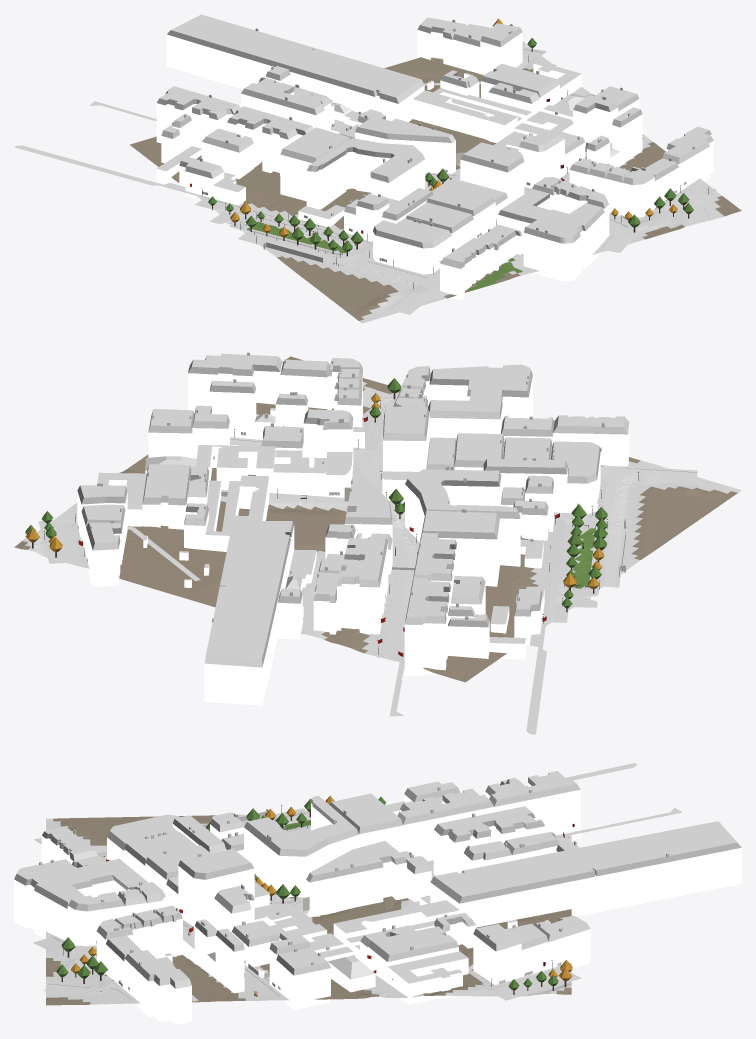
File: zone_H1.glb
3 renders of one model, top to bottom at view 1: azimuth 30°, elevation 25°; view 2: azimuth 150°, elevation 25°; view 3: azimuth 270°, elevation 25°, orthographic. The views are drawn at different scales.
Parts seen in each view (by area): view 1: zone_H1_batiments, zone_H1_terrain, zone_H1_sol_NOCOL, zone_H1_decor_NOCOL; view 2: zone_H1_batiments, zone_H1_terrain, zone_H1_sol_NOCOL, zone_H1_decor_NOCOL; view 3: zone_H1_batiments, zone_H1_terrain, zone_H1_sol_NOCOL, zone_H1_decor_NOCOL.
Part boxes in pixels (x1,y1,x2,y2): zone_H1_batiments: (156, 14, 713, 300); zone_H1_terrain: (130, 41, 741, 323); zone_H1_sol_NOCOL: (14, 47, 716, 314); zone_H1_decor_NOCOL: (201, 18, 709, 288); zone_H1_batiments: (77, 352, 629, 705); zone_H1_terrain: (14, 356, 741, 682); zone_H1_sol_NOCOL: (38, 391, 697, 734); zone_H1_decor_NOCOL: (25, 378, 638, 654); zone_H1_batiments: (14, 771, 741, 1024); zone_H1_terrain: (46, 814, 571, 1005); zone_H1_sol_NOCOL: (33, 763, 681, 1004); zone_H1_decor_NOCOL: (56, 795, 572, 994).
Bounding box in the file's own units: 261 × 34.25 × 295.
